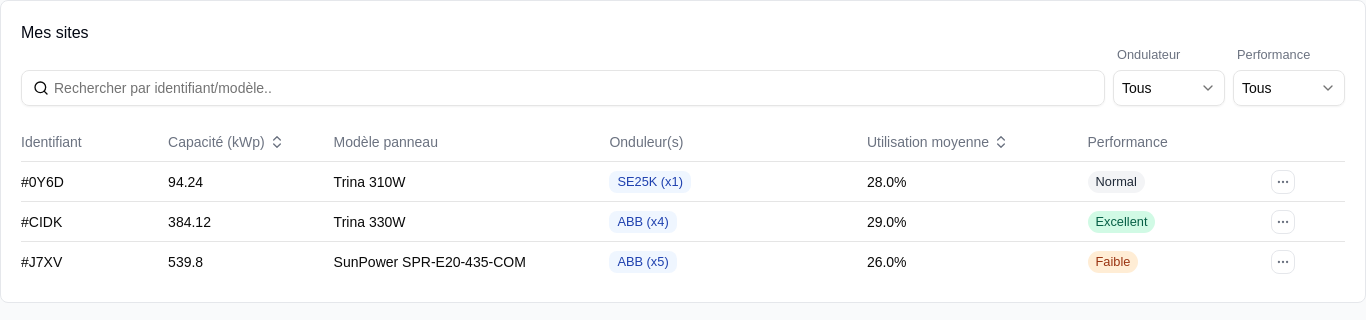
Test: SitesBlock › extracts unique inverter types across all sites for the filter options
Click the dropdown named "ondulateur". click: coordinates (1169, 88)
box: [1113,70,1225,106]
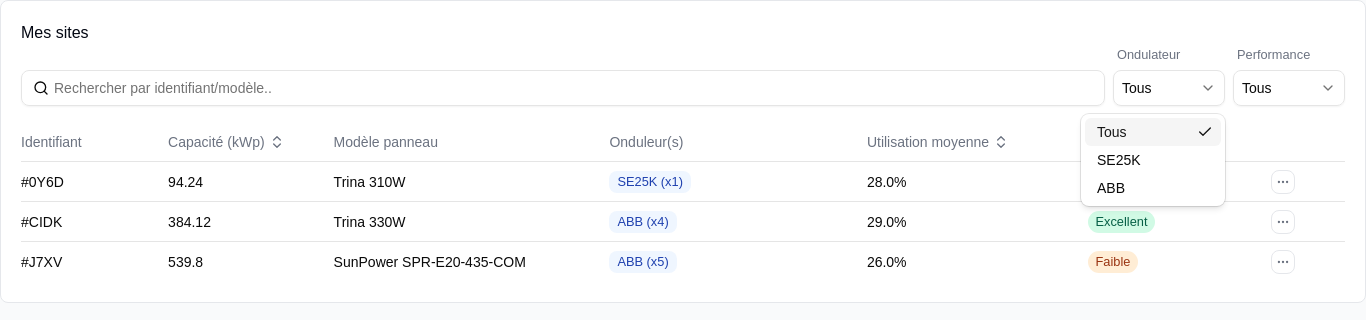
Now the option "SE25K" is shown, box [1097,152,1141,168]
Now the number of options "ABB" is 1, box [1097,180,1125,196]
